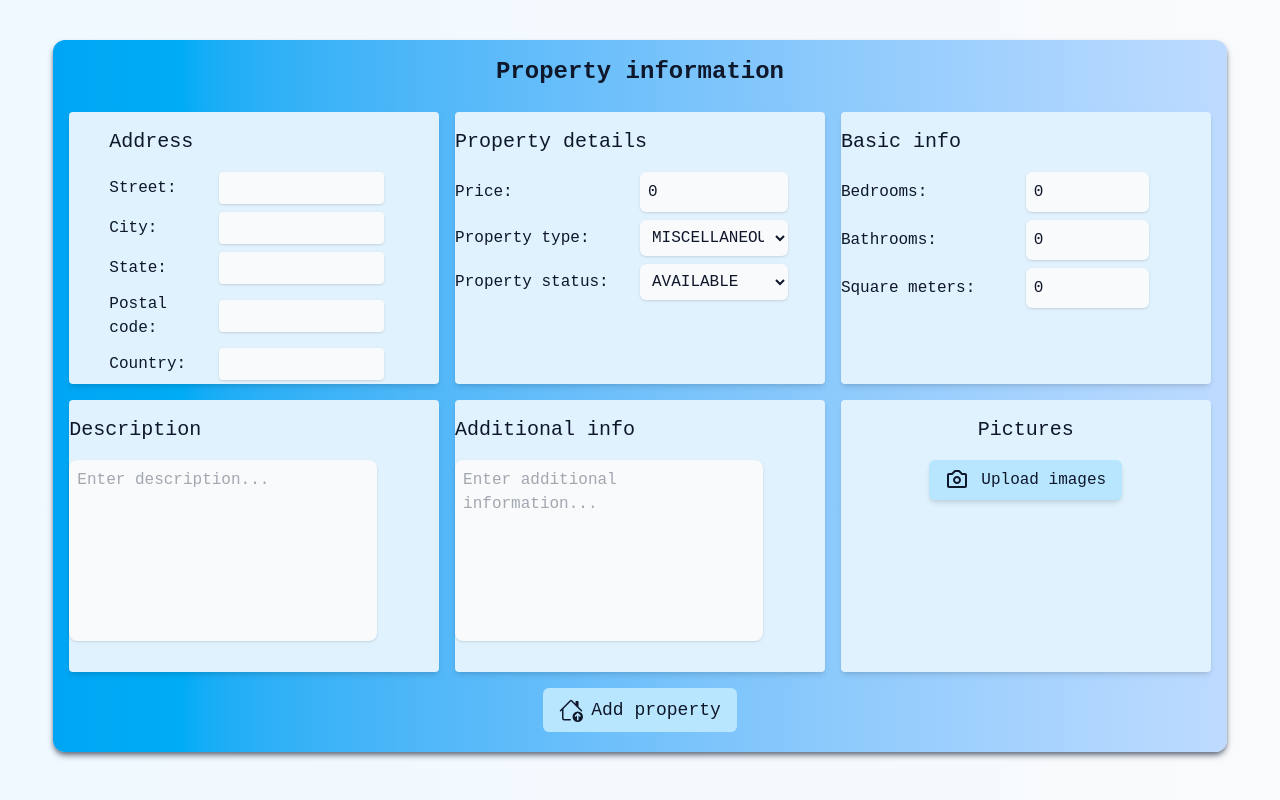
Test case: AddPropertyPage › should display generic error message when API returns error without error field
This screenshot has width=1280, height=800.
Type "123 Main St" into the field labelled "Street:" at (302, 188), box [219,172,384,204]
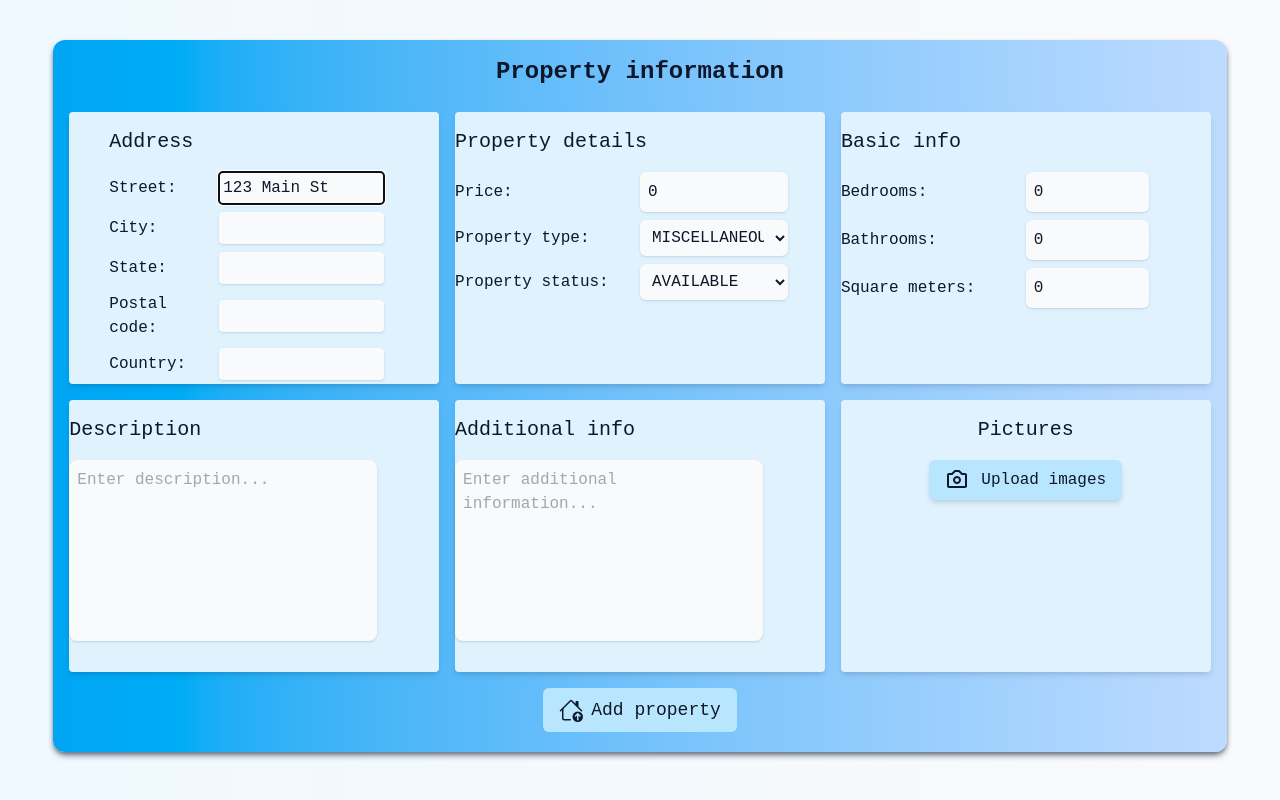
Click the button "Add property" at (640, 710), box [543,688,737,732]
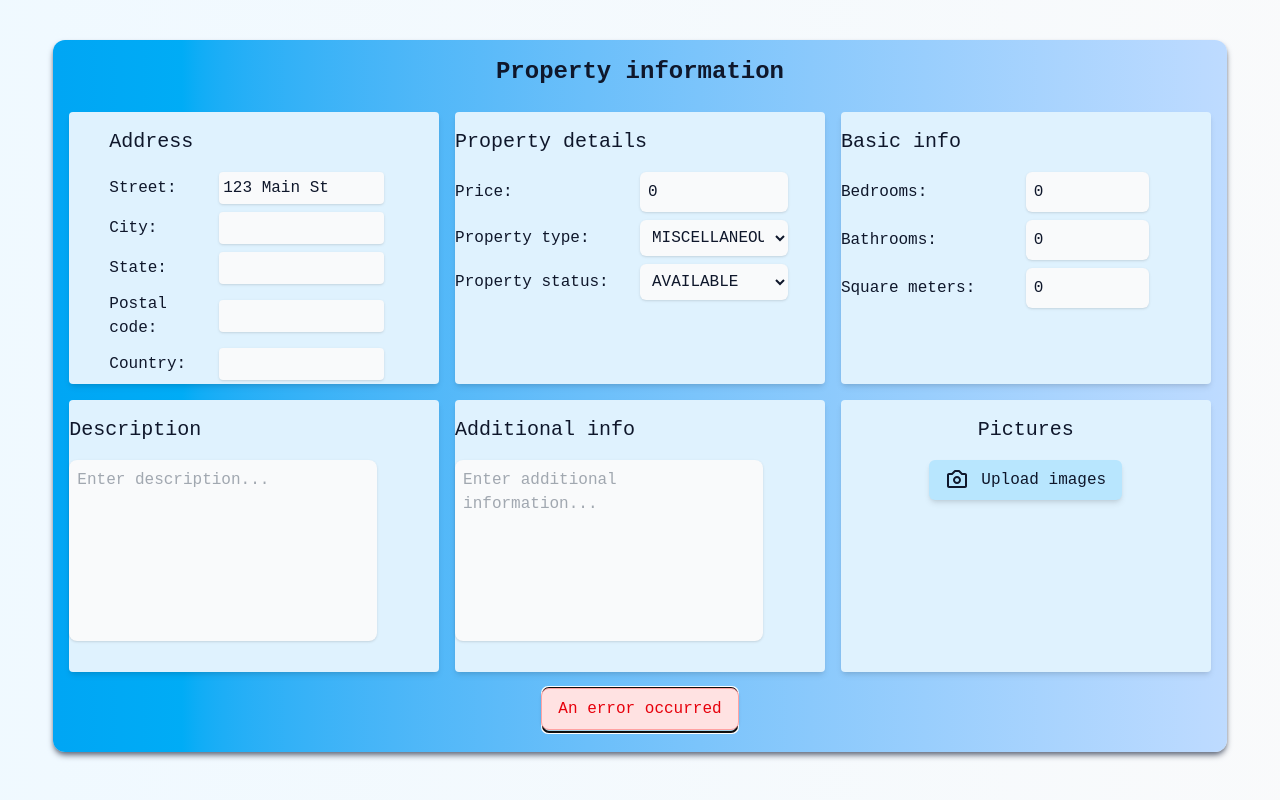
Result: the text "An error occurred" is shown at [541,688,739,730]
